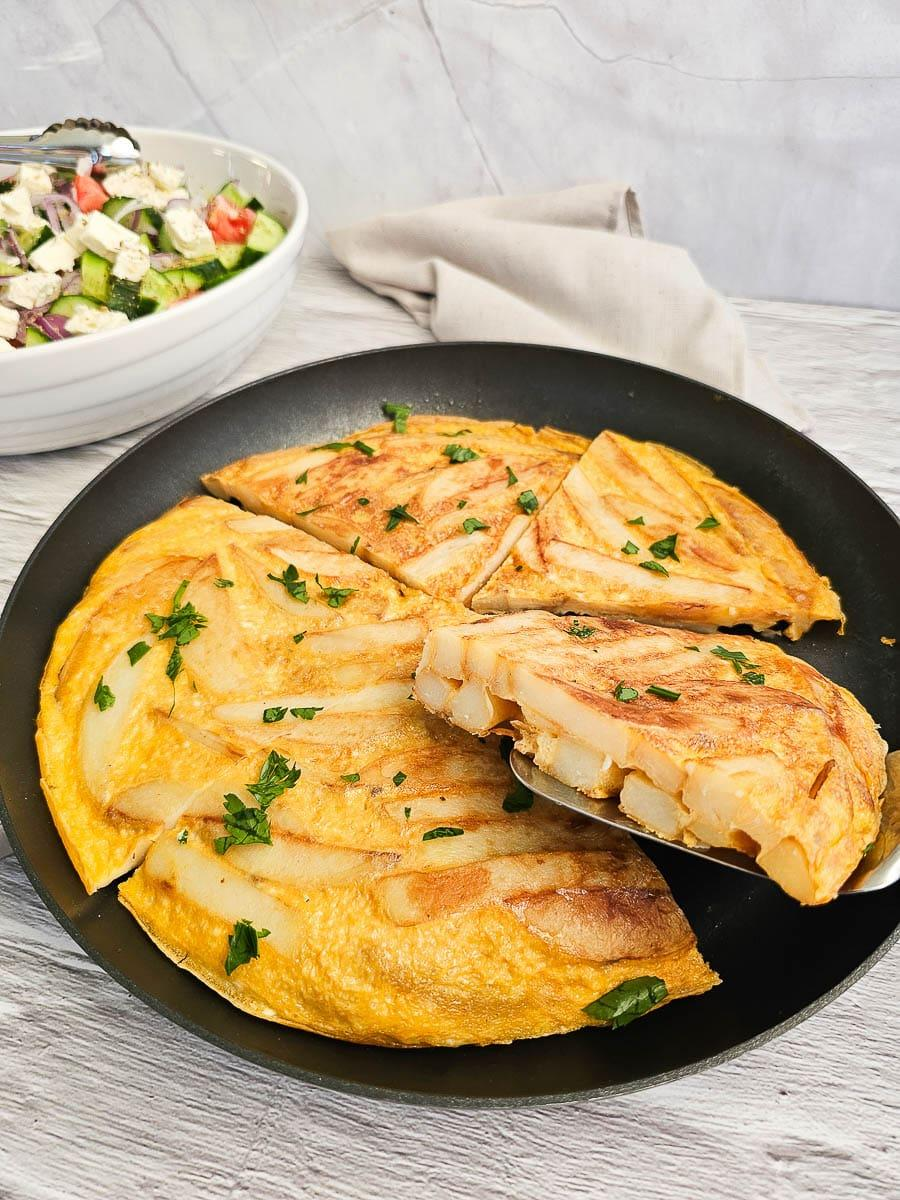omelette: (138, 384, 815, 1111)
salad: (0, 108, 317, 421)
